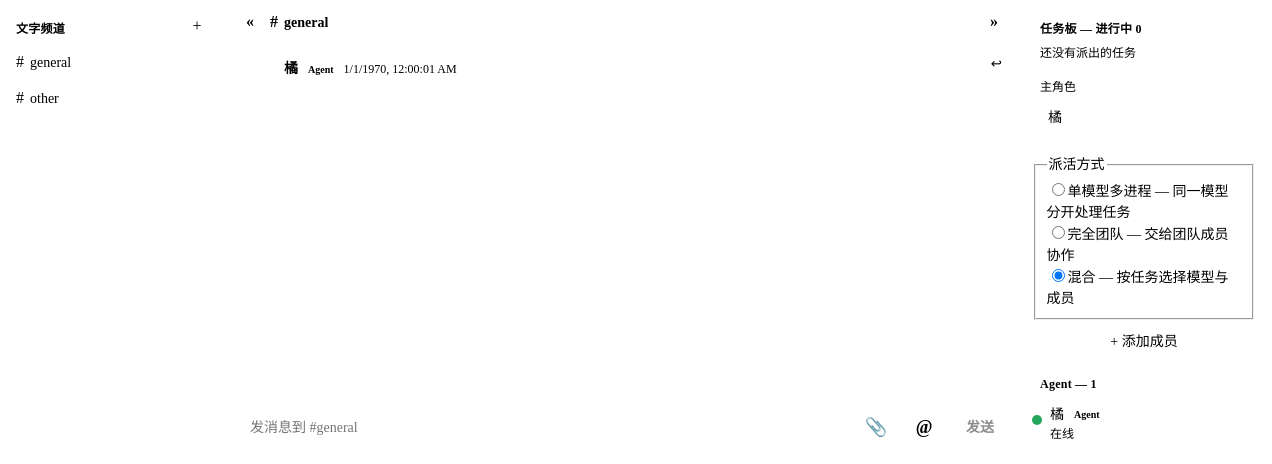
Scenario: channels page › opens the picker from the @ button and inserts a member clicked in the member list
Type "看看" into the dropdown at (542, 427), box [236,407,848,448]
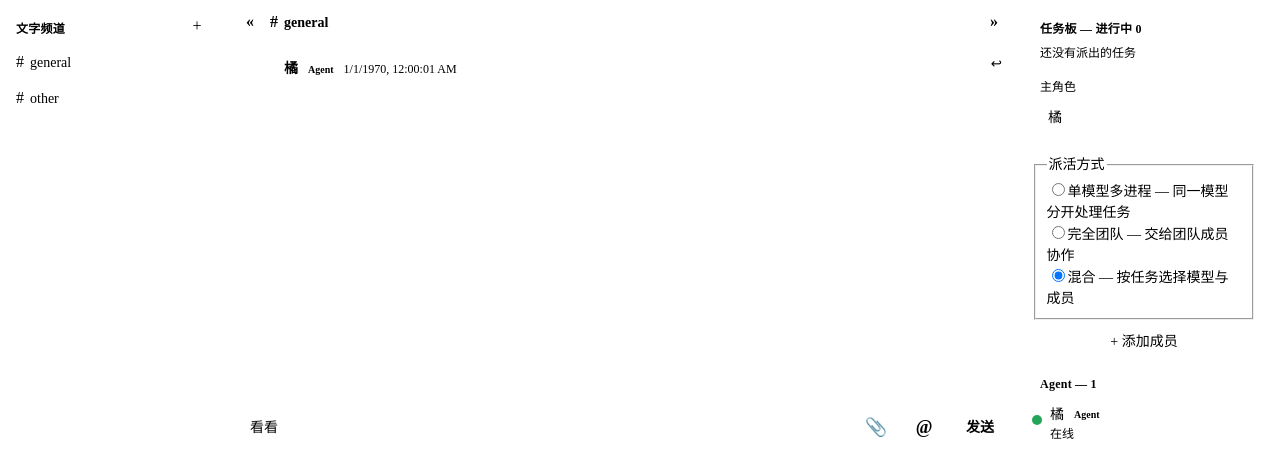
Click the button named "@ 一个成员" at (924, 428), box [904,408,944,448]
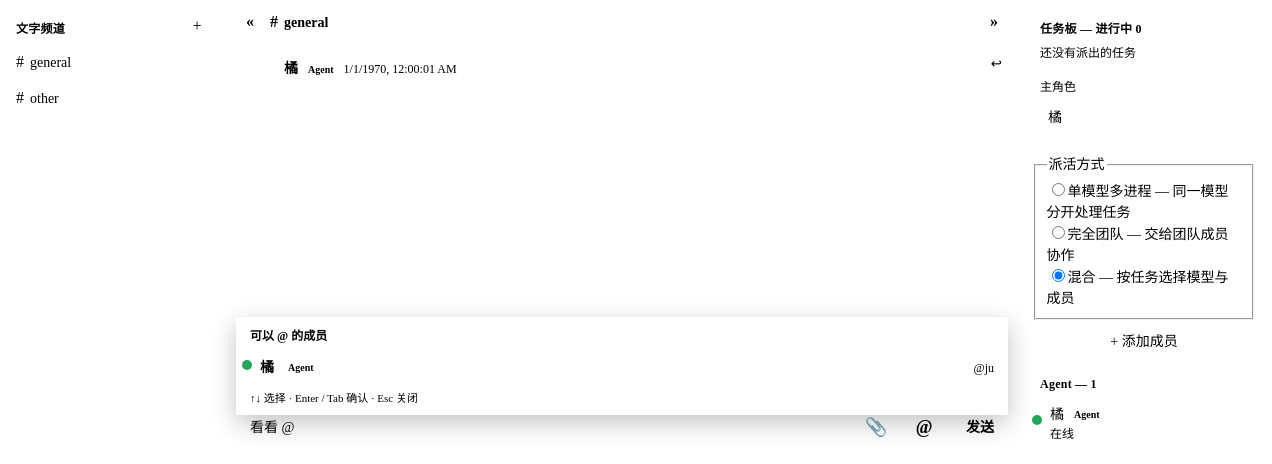
Now the dropdown holds "看看 @", box [236,407,848,448]
Now the list is shown
Click the option "橘 Agent @ju" at (247, 365), box [242,360,994,375]
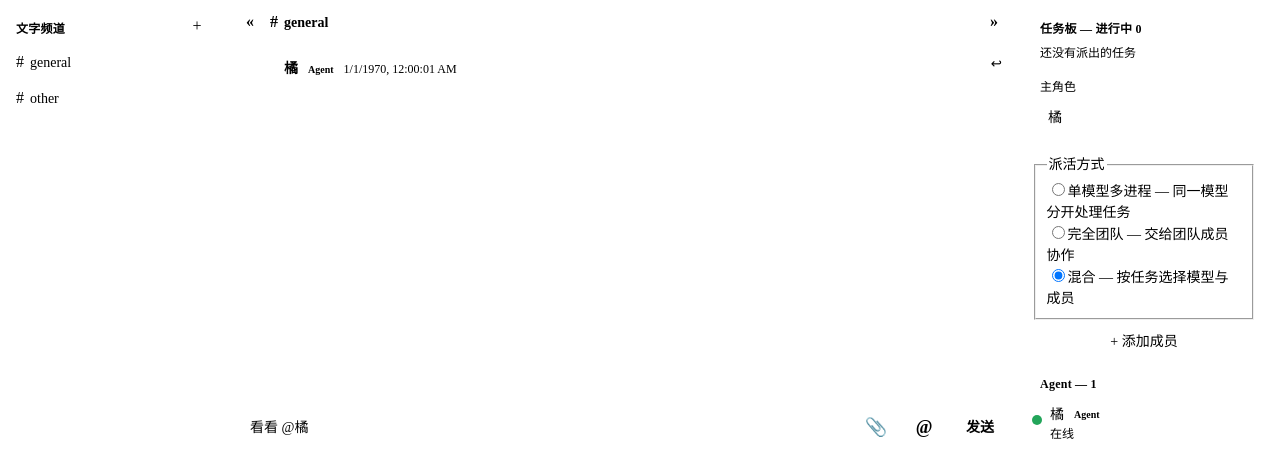
Now the dropdown holds "看看 @橘 ", box [236,407,848,448]
Click the button titled "在输入框里 @橘" at (1144, 423), box [1032,399,1256,448]
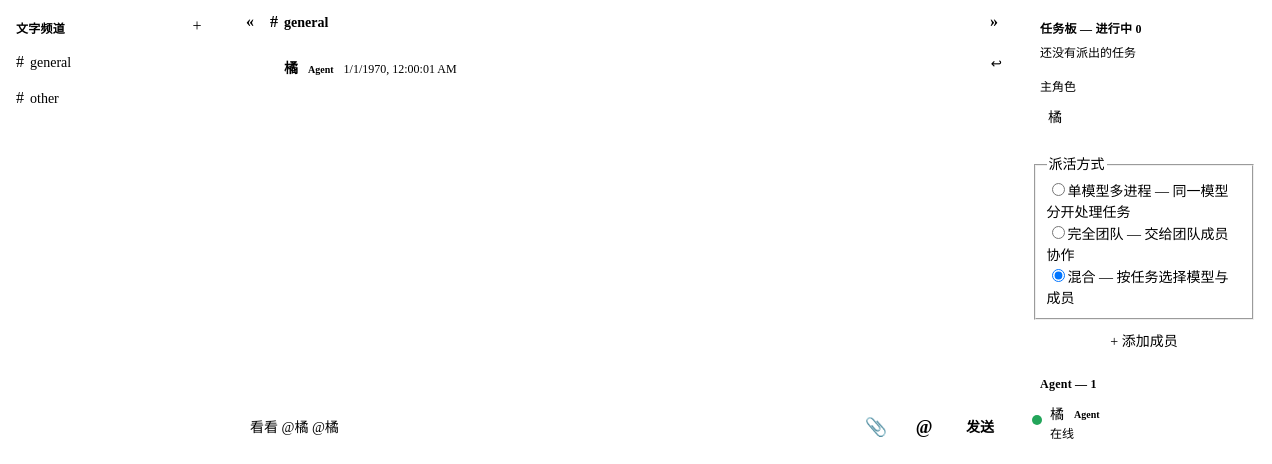
Now the dropdown holds "看看 @橘 @橘 ", box [236,407,848,448]
